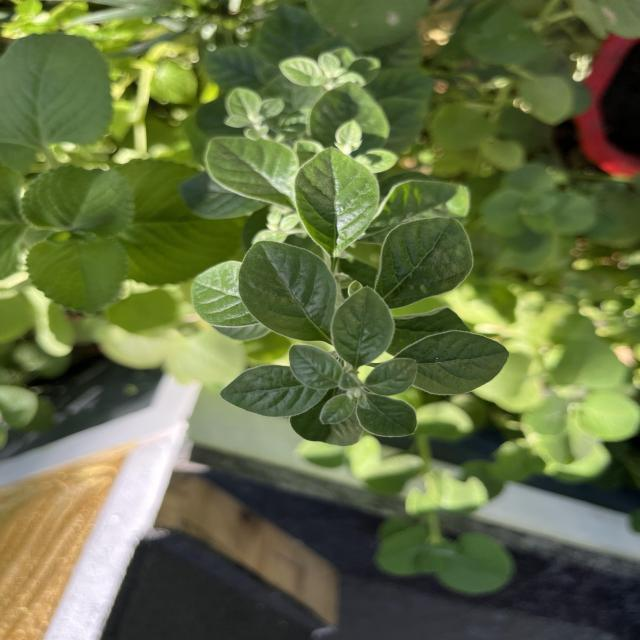Aerva lanata: (234, 238, 341, 343), (293, 144, 383, 258), (371, 213, 476, 310), (388, 330, 512, 398), (219, 362, 328, 419)
